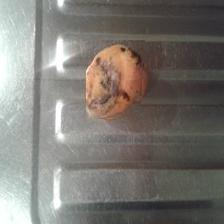Mango Rotten: (87, 40, 146, 120)
